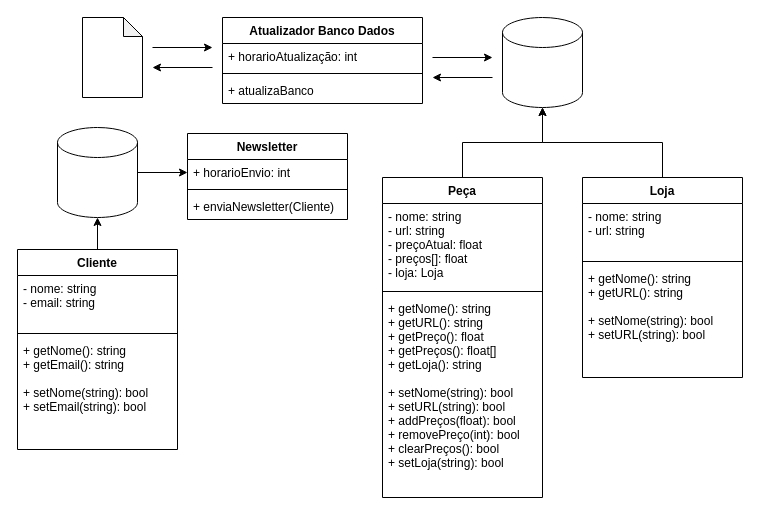
The diagram is 760 pixels wide and 518 high, and some of its shapes have lost their labels. The shapes that lost their labels are listed below. From the top down, each one's centre as x and y in pixels, then its label:
the point at 112,57: API
the point at 542,62: Peças
the point at 97,172: Clientes
